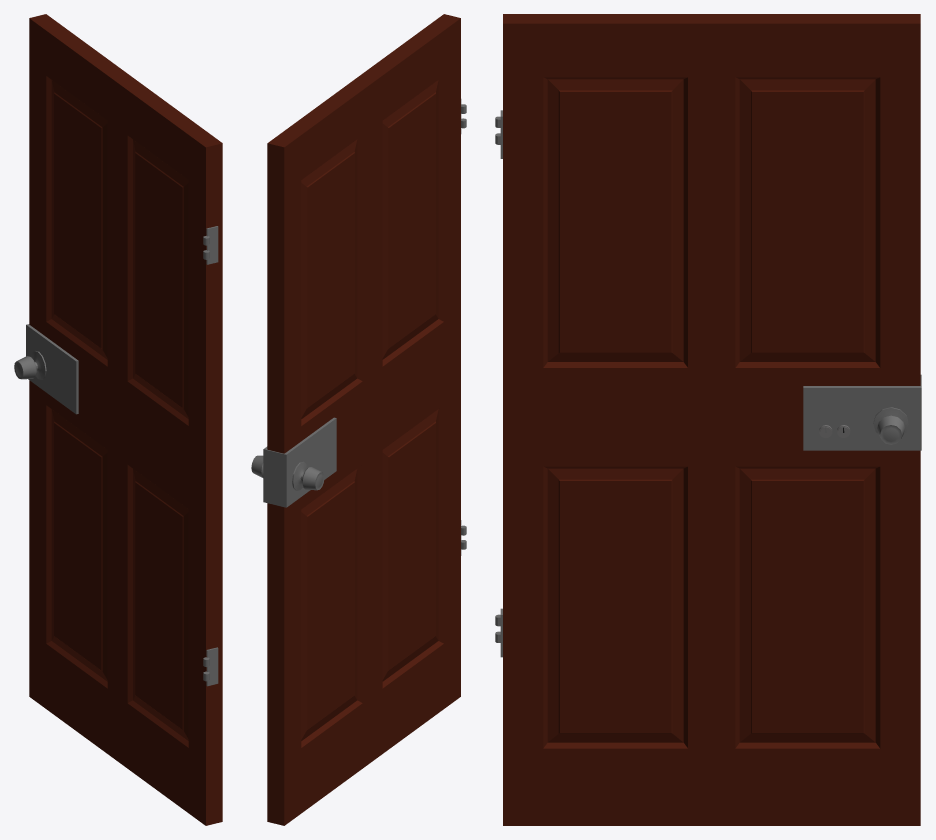
Rendered from backDoor.gltf.
3 renders of one model, left to right at view 1: azimuth 30°, elevation 25°; view 2: azimuth 150°, elevation 25°; view 3: azimuth 270°, elevation 25°, orthographic. The views are drawn at different scales.
Parts seen in each view (by area): view 1: backDoor; view 2: backDoor; view 3: backDoor.
Boxes of the visible parts, bbox=[...] form: backDoor: bbox=[14, 14, 222, 825]; backDoor: bbox=[251, 14, 466, 825]; backDoor: bbox=[495, 14, 921, 825].
Size of the model in its own units: 0.2479 by 2.52 by 1.22.
